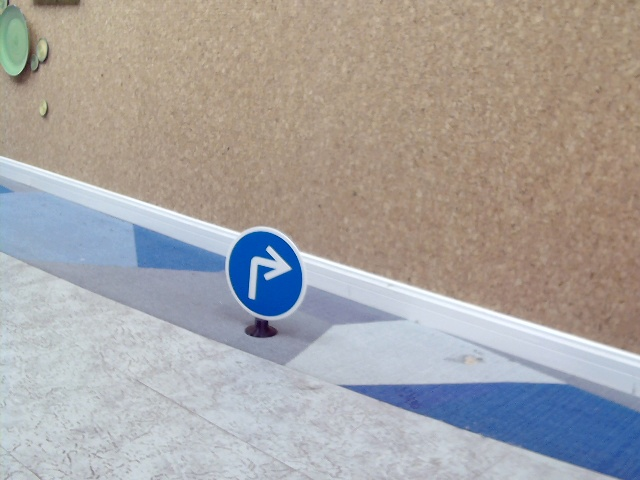turn_right: (242, 243, 287, 300)
